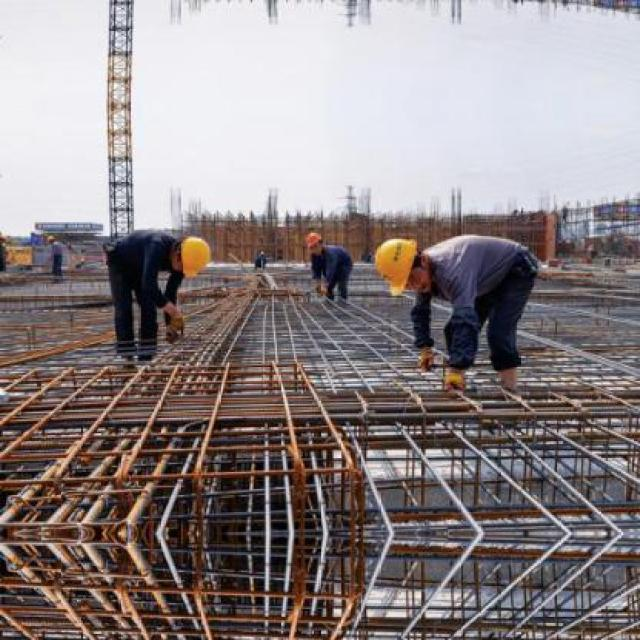helmet: (370, 234, 430, 294), (175, 230, 213, 277), (302, 229, 326, 257)
